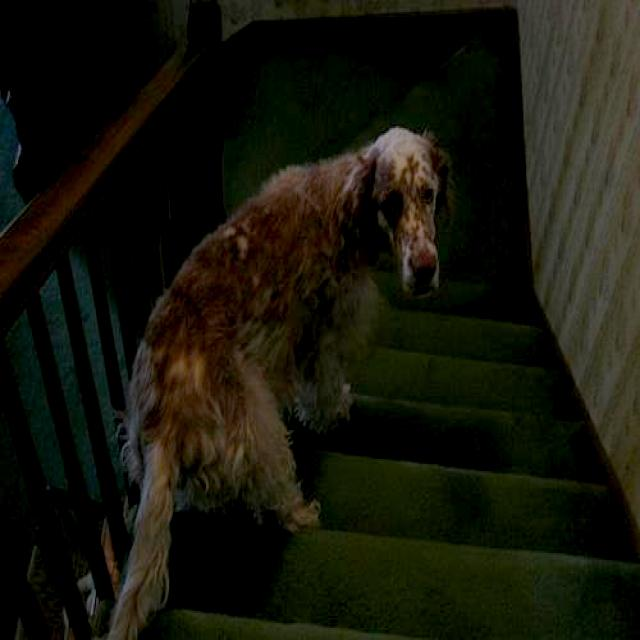Dog: (186, 70, 522, 580)
